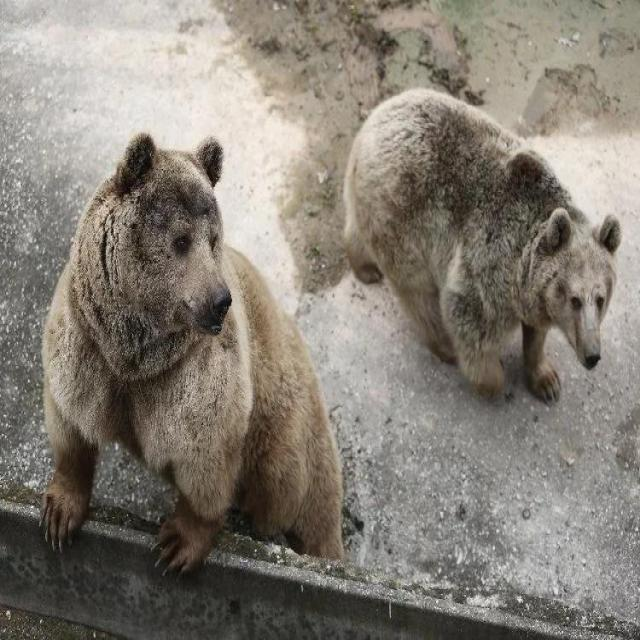Bear: (40, 134, 346, 579), (340, 88, 622, 404)
